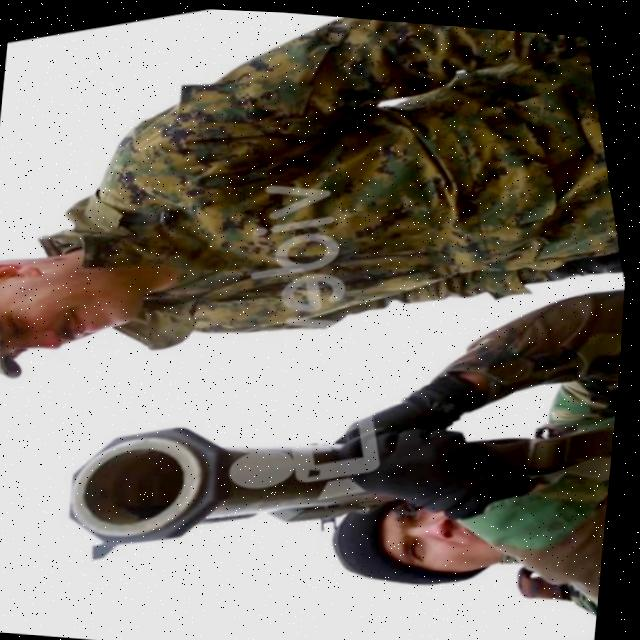rocket: (54, 370, 402, 583)
